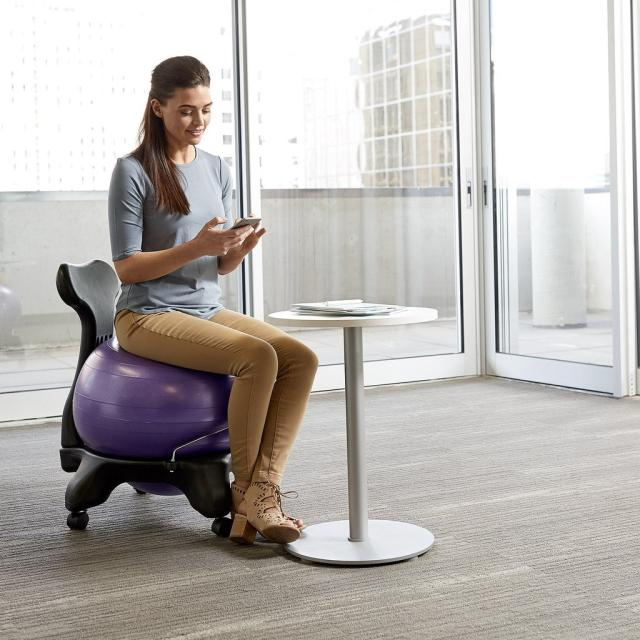nonfall: (113, 38, 326, 555)
